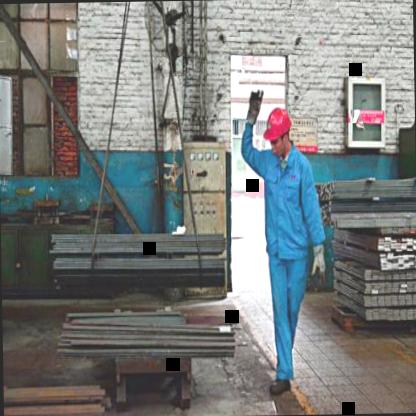helmet: (262, 100, 293, 158)
